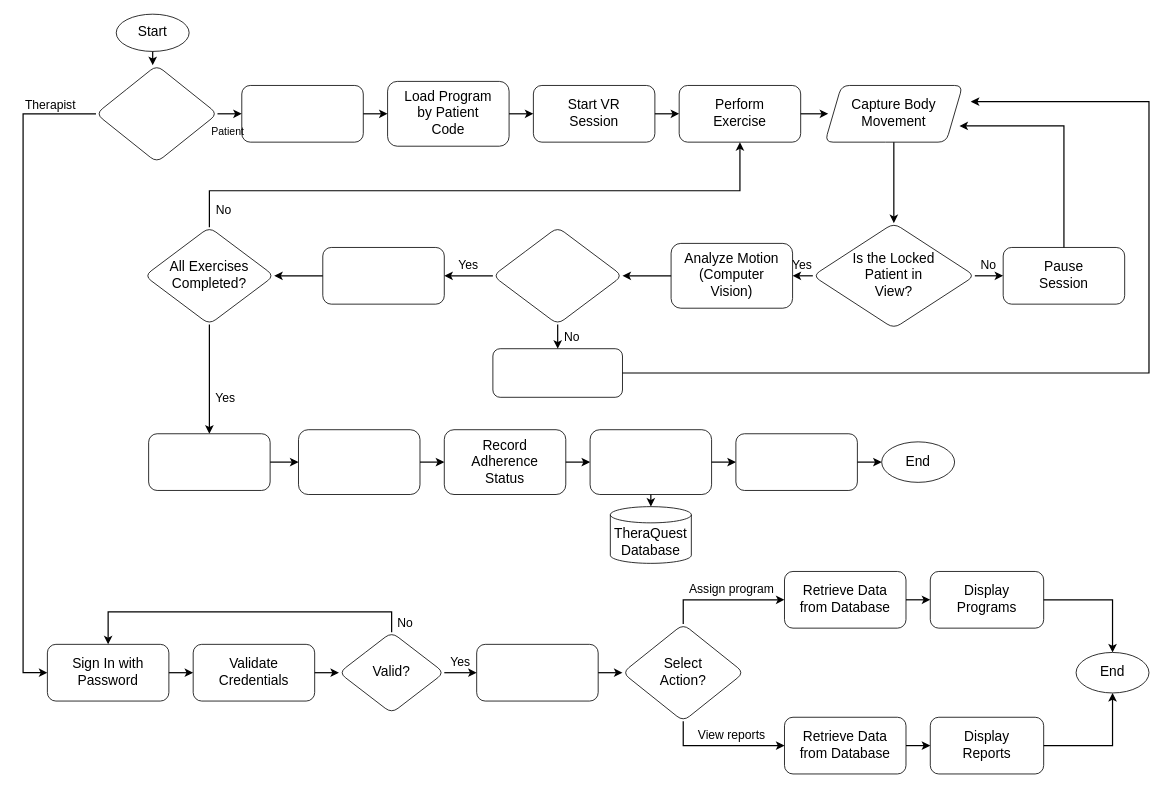
Image size: 1170x788. Some labels were removed from this diagram. Here are the shapes that lost their labels. From the top down, the centre of each, then its label:
At [156,113]: "Who is using the system?".
At [302,113]: "Open VR Application".
At [383,275]: "Update Score".
At [557,275]: "Is Movement Correct?".
At [557,372]: "Show Corrective Prompt".
At [209,461]: "Session Completed".
At [359,462]: "Generate Performance Data".
At [650,462]: "Store Performance Data".
At [796,461]: "Display Results".
At [537,672]: "Display Dashboard".
